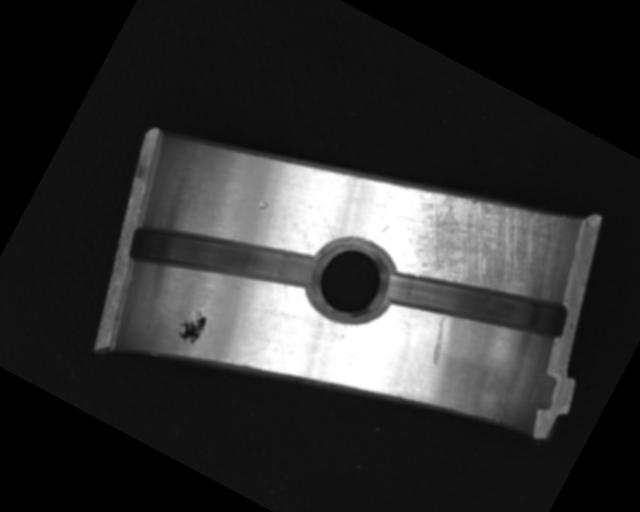blot: (168, 304, 211, 352)
bruise: (255, 198, 271, 212)
gap: (122, 176, 327, 342), (379, 227, 573, 381)
hole: (296, 224, 408, 334)
nick: (418, 312, 462, 368), (307, 205, 348, 243)
scratch: (376, 144, 584, 333)
